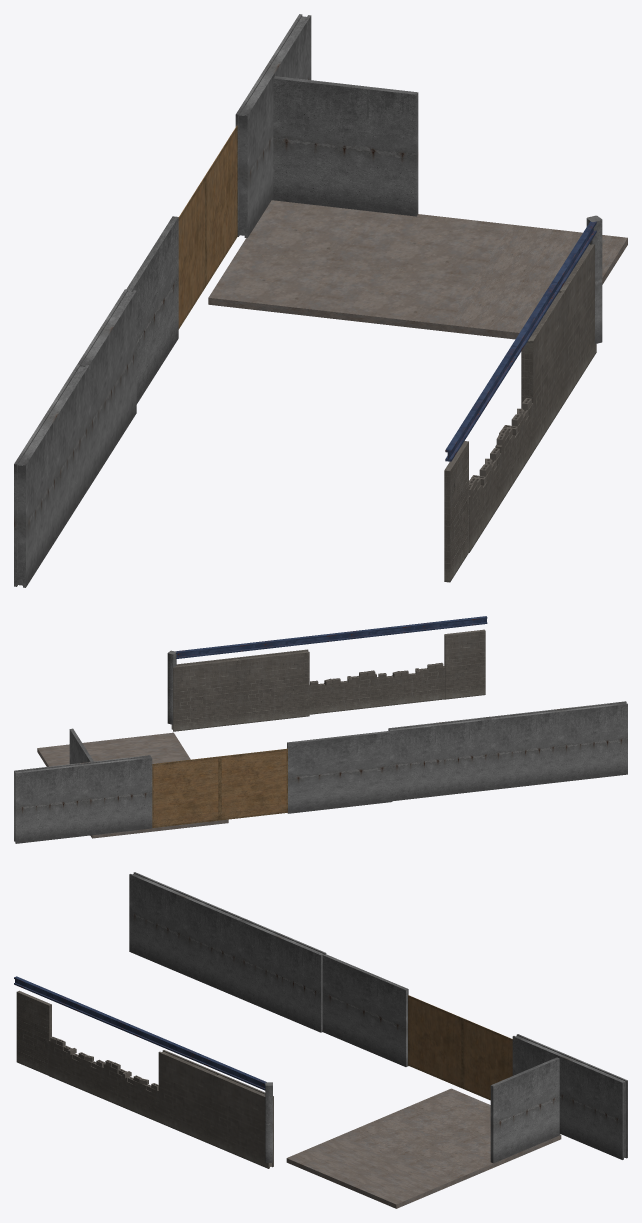
Rendered from BuildingMap_2_0.gltf.
3 views of the same model, one above another, from view 1: azimuth 30°, elevation 25°; view 2: azimuth 150°, elevation 25°; view 3: azimuth 270°, elevation 25° (orthographic). The views are drawn at different scales.
Parts seen in each view (by area): view 1: SM_Floors_Thick_57, SM_BW_BrickWall4m2, SM_BP_WallCon_8x26, SM_Floors_Thick_166, SM_BP_WallCon_8x24, SM_BP_WallCon_6x9, SM_BW_BrickWall4m4, SM_BP_WallCon_4x27, SM_BP_WallCon_4x26, SM_Wall_Inside_37, SM_Wall_Inside_38, SM_BW_BrickWall2m4 (+5 smaller); view 2: SM_BP_WallCon_8x24, SM_BP_WallCon_8x26, SM_BP_WallCon_6x9, SM_BW_BrickWall4m4, SM_BP_WallCon_4x26, SM_BP_WallCon_4x27, SM_Wall_Inside_38, SM_Wall_Inside_37, SM_Floors_Thick_166, SM_BW_BrickWall2m4, SM_BW_BrickWall4mHalf7, SM_BW_BrickWall4mHalf8 (+7 smaller); view 3: SM_BP_WallCon_8x26, SM_Floors_Thick_57, SM_BP_WallCon_6x9, SM_BP_WallCon_8x24, SM_BW_BrickWall4m4, SM_Floors_Thick_166, SM_BW_BrickWall4m2, SM_BP_WallCon_4x27, SM_BP_WallCon_4x26, SM_Wall_Inside_38, SM_Wall_Inside_37, SM_BW_BrickWall2m4 (+7 smaller).
Boxes of the visible parts, x1,y1,x2,y2 form: SM_Floors_Thick_57: (208, 200, 508, 331); SM_BW_BrickWall4m2: (272, 76, 418, 216); SM_BP_WallCon_8x26: (14, 364, 89, 587); SM_Floors_Thick_166: (445, 224, 627, 339); SM_BP_WallCon_8x24: (235, 14, 311, 237); SM_BP_WallCon_6x9: (77, 289, 136, 487); SM_BW_BrickWall4m4: (126, 216, 178, 404); SM_BP_WallCon_4x27: (521, 291, 564, 451); SM_BP_WallCon_4x26: (559, 244, 596, 401); SM_Wall_Inside_37: (205, 125, 237, 285); SM_Wall_Inside_38: (178, 175, 205, 329); SM_BW_BrickWall2m4: (444, 441, 468, 582); SM_BP_WallCon_8x24: (14, 755, 152, 843); SM_BP_WallCon_8x26: (490, 701, 627, 789); SM_BP_WallCon_6x9: (388, 716, 491, 801); SM_BW_BrickWall4m4: (287, 731, 392, 813); SM_BP_WallCon_4x26: (171, 657, 241, 731); SM_BP_WallCon_4x27: (240, 649, 309, 723); SM_Wall_Inside_38: (220, 748, 287, 820); SM_Wall_Inside_37: (152, 756, 219, 827); SM_Floors_Thick_166: (37, 732, 190, 766); SM_BW_BrickWall2m4: (444, 629, 485, 699); SM_BW_BrickWall4mHalf7: (309, 670, 376, 714); SM_BW_BrickWall4mHalf8: (377, 662, 444, 706); SM_BP_WallCon_8x26: (129, 872, 243, 997); SM_Floors_Thick_57: (342, 1088, 561, 1185); SM_BP_WallCon_6x9: (238, 918, 326, 1032); SM_BP_WallCon_8x24: (512, 1034, 627, 1159); SM_BW_BrickWall4m4: (322, 954, 408, 1066); SM_Floors_Thick_166: (286, 1135, 451, 1208); SM_BW_BrickWall4m2: (490, 1057, 560, 1163); SM_BP_WallCon_4x27: (158, 1050, 218, 1145); SM_BP_WallCon_4x26: (213, 1073, 273, 1168); SM_Wall_Inside_38: (408, 995, 462, 1088); SM_Wall_Inside_37: (462, 1018, 512, 1100); SM_BW_BrickWall2m4: (16, 990, 51, 1075).
Size of the model in its own units: 30.86 by 4.8 by 31.61.
Materials: 6 (6 with a texture image).
